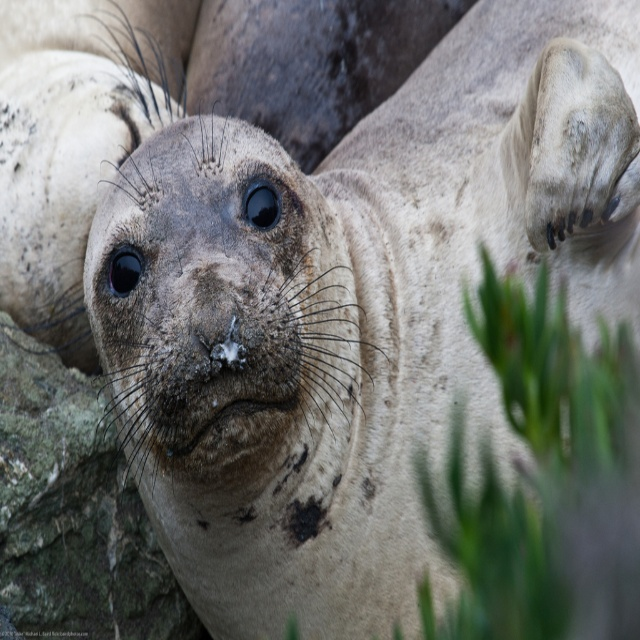Harbor seal: (14, 0, 640, 639)
